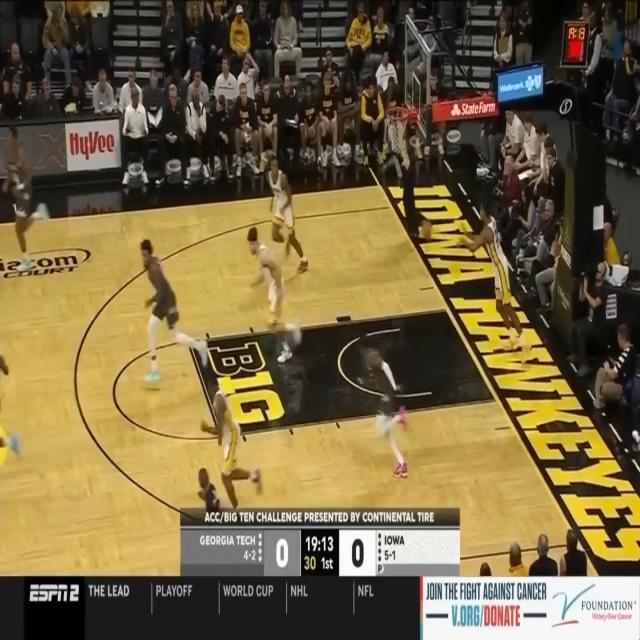Ball: (420, 218, 432, 240)
Hoop: (384, 103, 410, 154)
Period: (321, 555, 334, 575)
Player: (457, 202, 534, 368), (139, 237, 209, 385), (200, 374, 264, 509), (355, 334, 410, 479), (246, 227, 304, 363), (4, 126, 50, 274), (267, 157, 309, 274), (0, 436, 20, 456), (0, 355, 10, 376)
Ref: (384, 131, 420, 242), (198, 469, 220, 509)
Shot Clock: (303, 554, 317, 574)
Team Name: (200, 532, 256, 550), (383, 531, 407, 547)
Team Points: (273, 534, 291, 572), (348, 535, 367, 570)
Time Remaining: (304, 533, 336, 555)
